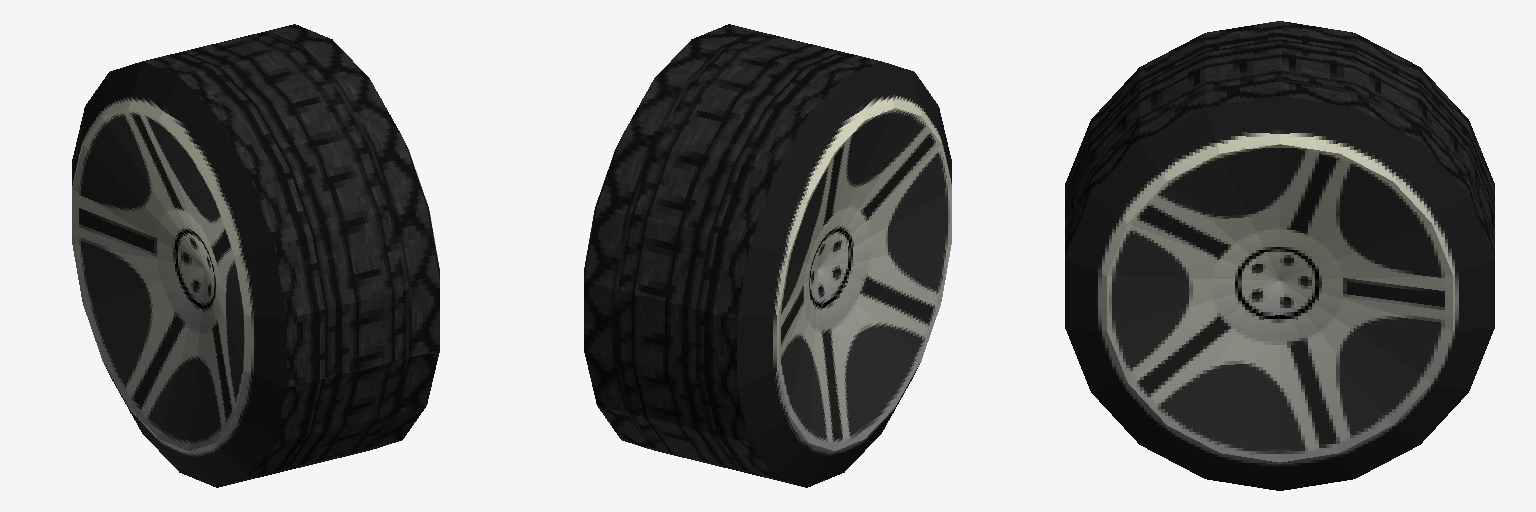
3 renders of one model, left to right at view 1: azimuth 30°, elevation 25°; view 2: azimuth 150°, elevation 25°; view 3: azimuth 270°, elevation 25°, orthographic.
Parts seen in each view (by area): view 1: Mesh_wheel_Cylinder01x; view 2: Mesh_wheel_Cylinder01x; view 3: Mesh_wheel_Cylinder01x.
Part boxes in pixels (left/top/right/bottom): Mesh_wheel_Cylinder01x: left=72, top=24, right=439, bottom=487; Mesh_wheel_Cylinder01x: left=584, top=24, right=951, bottom=487; Mesh_wheel_Cylinder01x: left=1065, top=21, right=1494, bottom=490.
Size of the model in its own units: 30.68 by 59.69 by 58.78.
1 materials, 1 textured.